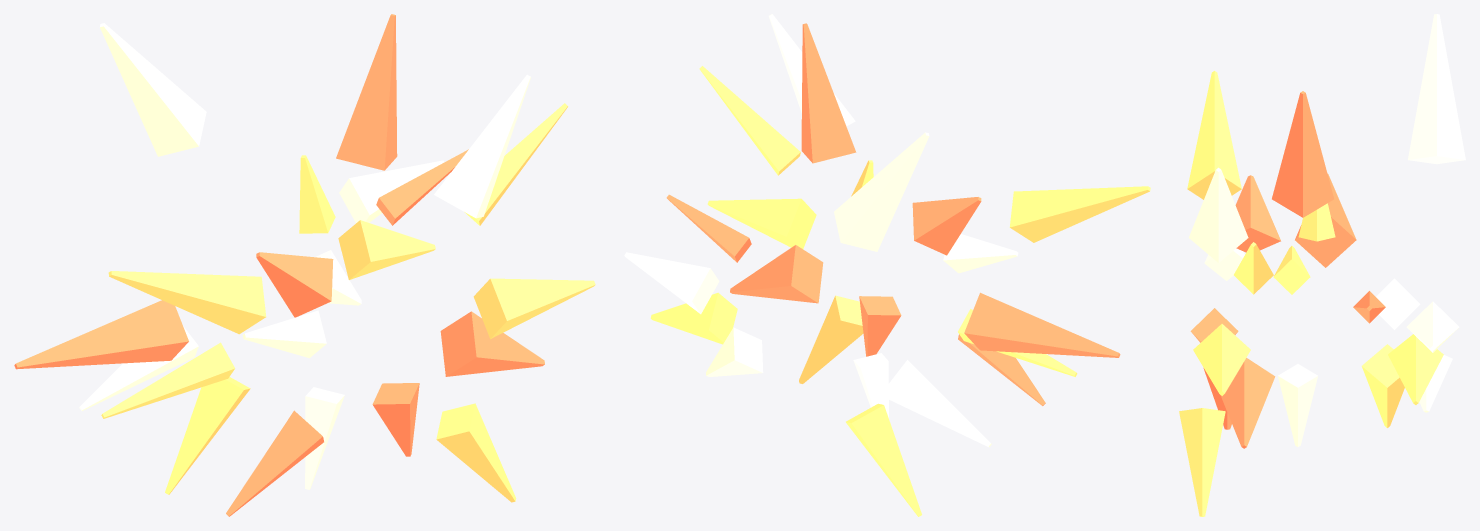
The model's file is sparks.glb.
3 views of the same model, side by side, from view 1: azimuth 30°, elevation 25°; view 2: azimuth 150°, elevation 25°; view 3: azimuth 270°, elevation 25° (orthographic). The views are drawn at different scales.
Visible parts, largest first — view 1: Sparks dimensional effect.001; view 2: Sparks dimensional effect.001; view 3: Sparks dimensional effect.001.
Boxes of the visible parts, box(x1,y1,x2,y2) form: Sparks dimensional effect.001: box(14, 14, 595, 516); Sparks dimensional effect.001: box(624, 14, 1150, 516); Sparks dimensional effect.001: box(1179, 14, 1465, 516).
Size of the model in its own units: 1.13 by 0.9852 by 0.6244.
